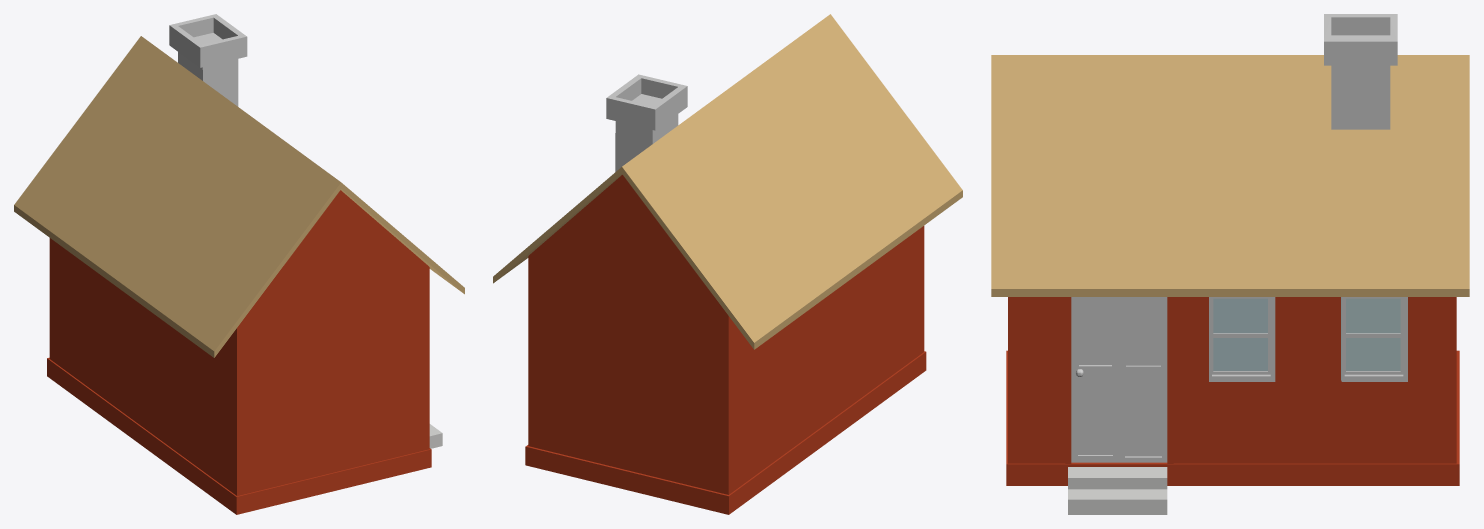
The model's file is house_red.dae.
3 views of the same model, side by side, from view 1: azimuth 30°, elevation 25°; view 2: azimuth 150°, elevation 25°; view 3: azimuth 270°, elevation 25° (orthographic). The views are drawn at different scales.
Visible parts, largest first — view 1: Mesh_003_janela001_Cube_005; view 2: Mesh_003_janela001_Cube_005; view 3: Mesh_003_janela001_Cube_005.
Boxes of the visible parts, bbox=[...] form: Mesh_003_janela001_Cube_005: bbox=[14, 14, 464, 514]; Mesh_003_janela001_Cube_005: bbox=[493, 14, 962, 514]; Mesh_003_janela001_Cube_005: bbox=[991, 14, 1469, 514].
Size of the model in its own units: 3.34 by 4.45 by 4.32.
Materials: 10 (1 with a texture image).
